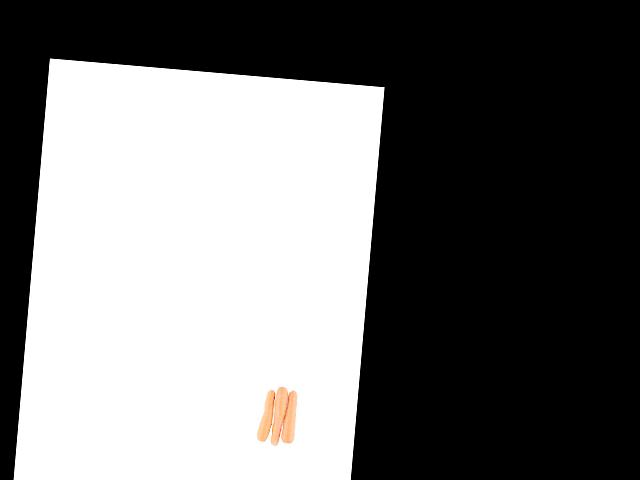carrot: (281, 385, 300, 448)
